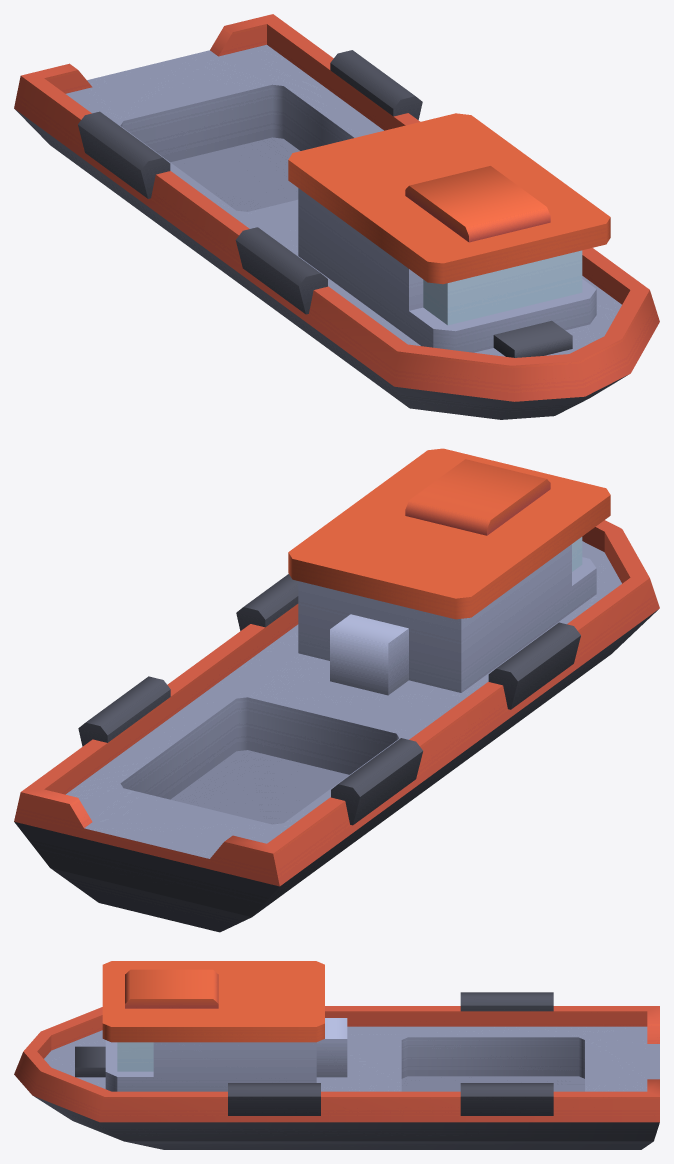
Rendered from ship-cargo-c.glb.
3 renders of one model, top to bottom at view 1: azimuth 30°, elevation 25°; view 2: azimuth 150°, elevation 25°; view 3: azimuth 270°, elevation 25°, orthographic. The views are drawn at different scales.
Parts seen in each view (by area): view 1: ship-cargo-c; view 2: ship-cargo-c; view 3: ship-cargo-c.
Part boxes in pixels (x1,y1,x2,y2): ship-cargo-c: [14, 14, 659, 419]; ship-cargo-c: [14, 448, 659, 932]; ship-cargo-c: [14, 961, 659, 1149].
Size of the model in its own units: 3.92 by 2.59 by 10.55.
Materials: 1 (1 with a texture image).
